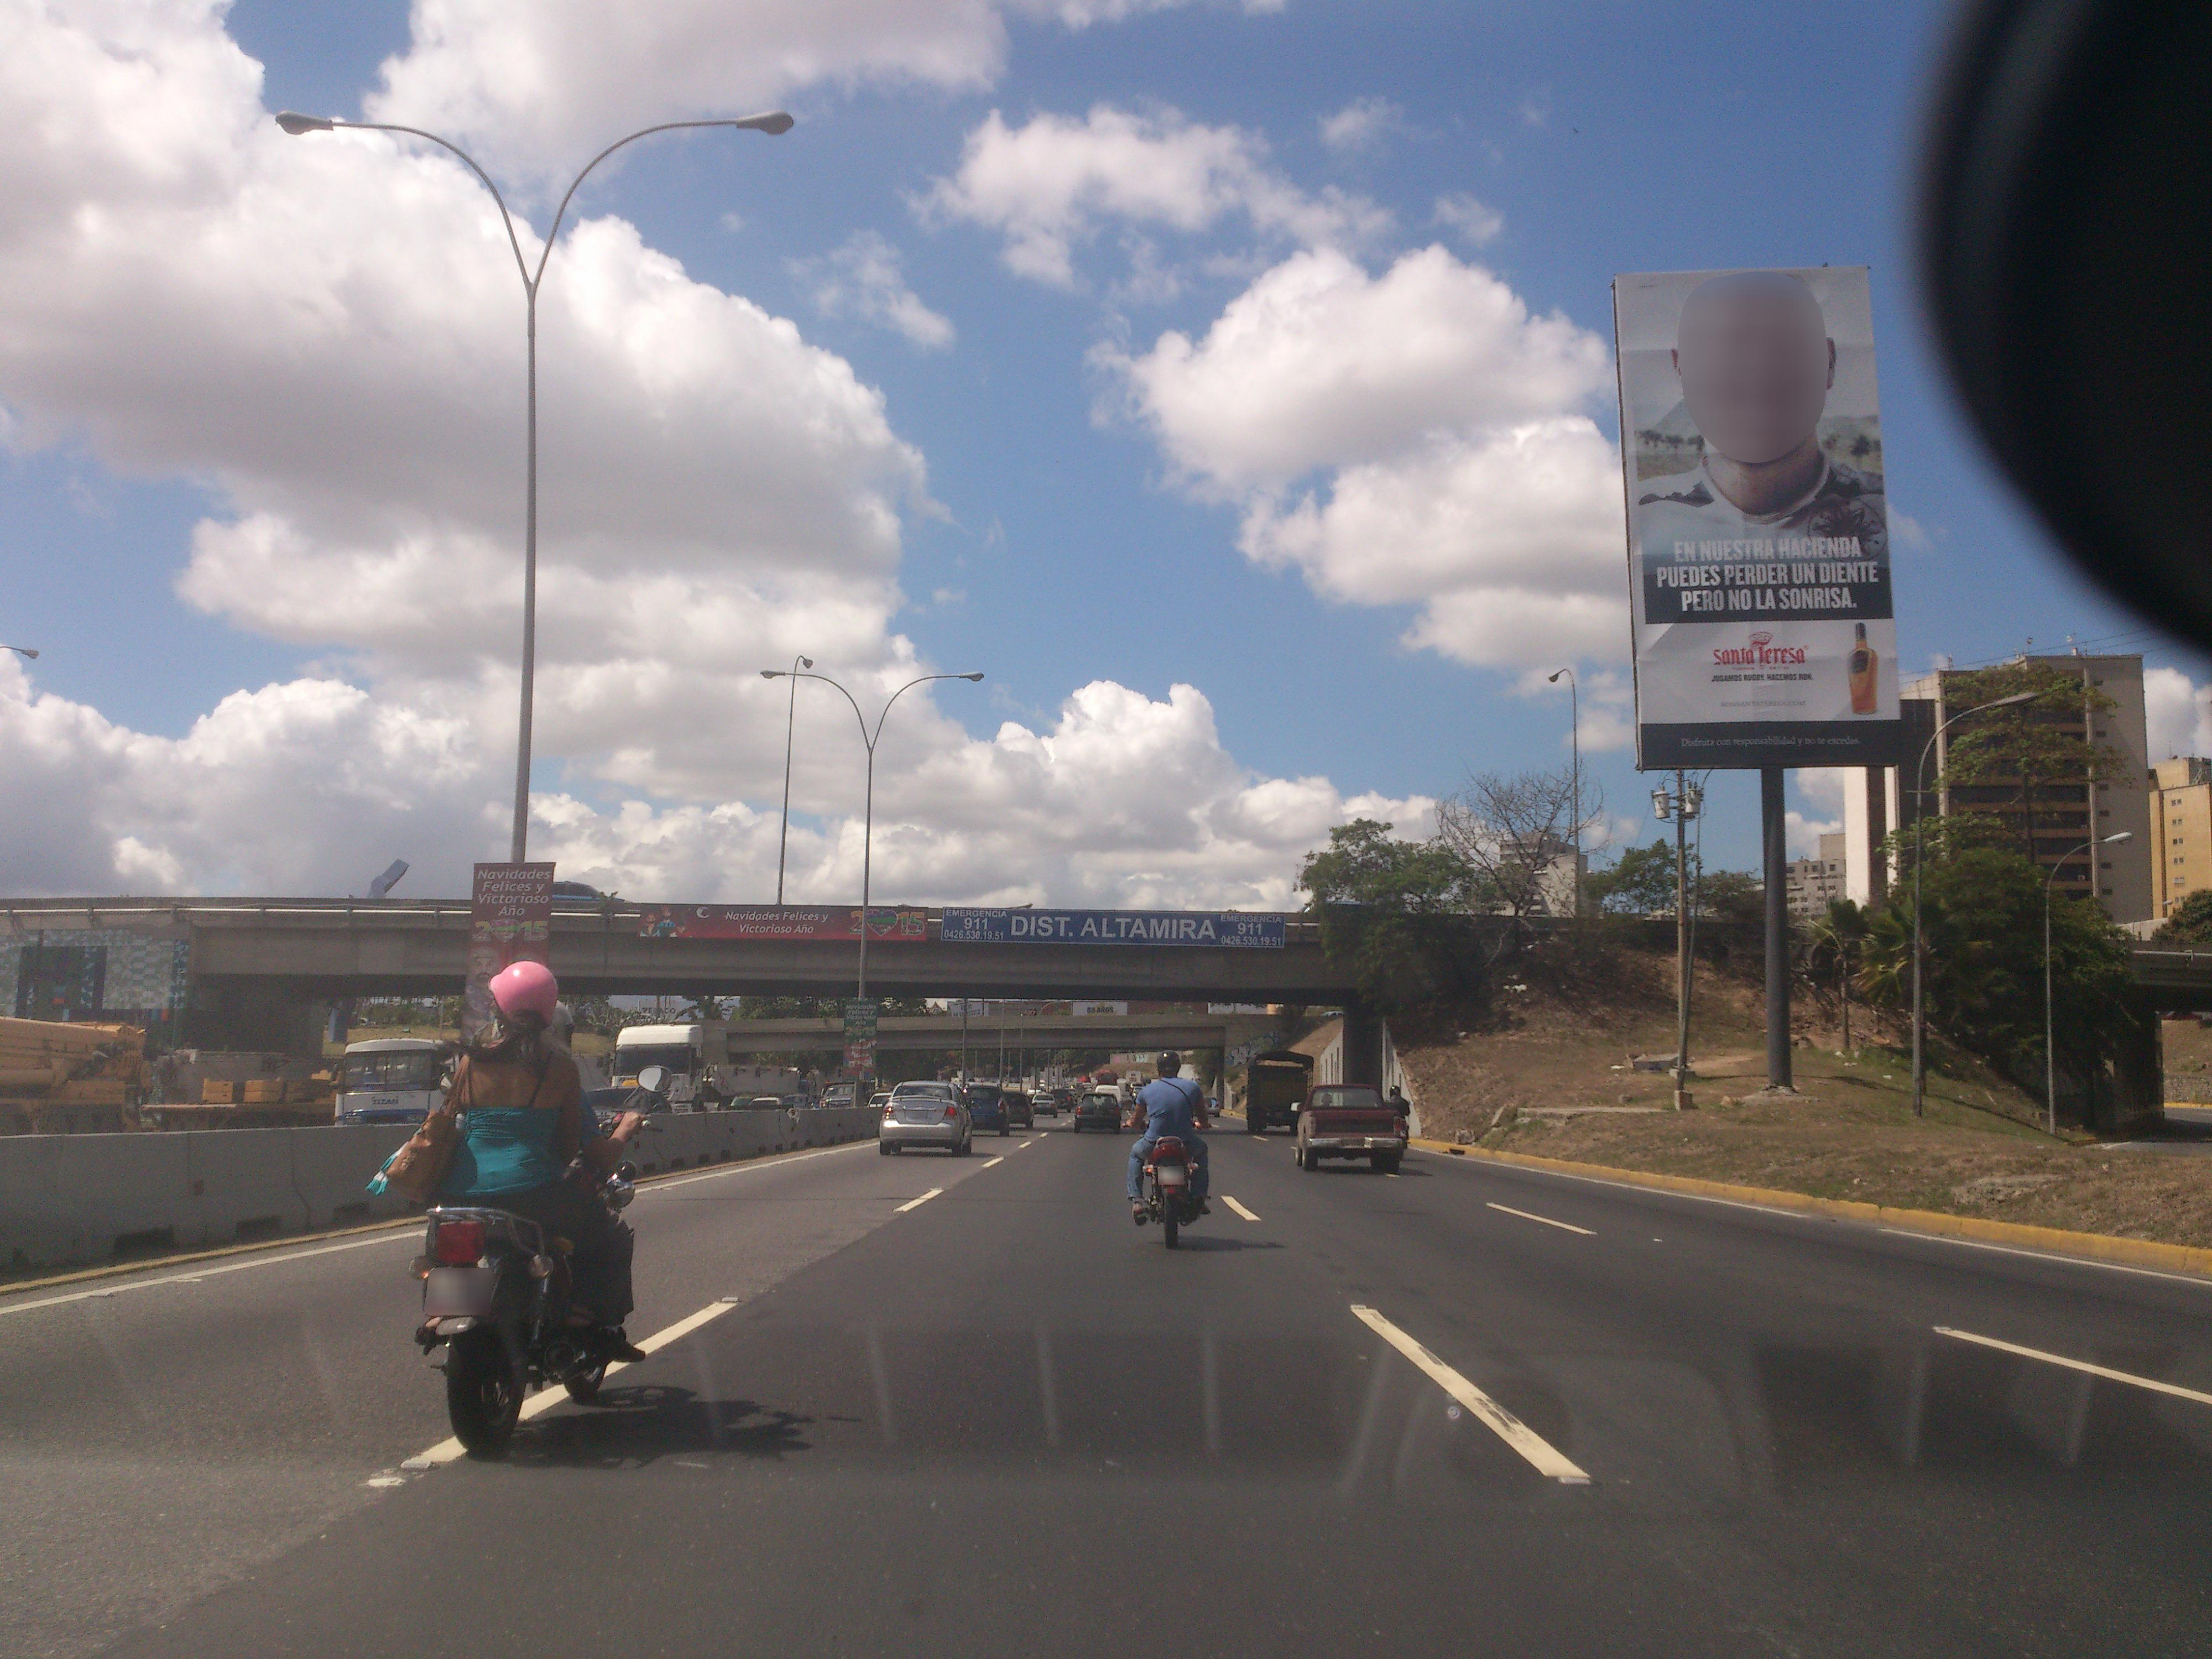vinyl banner: (610, 878, 941, 957), (935, 892, 1292, 964)
